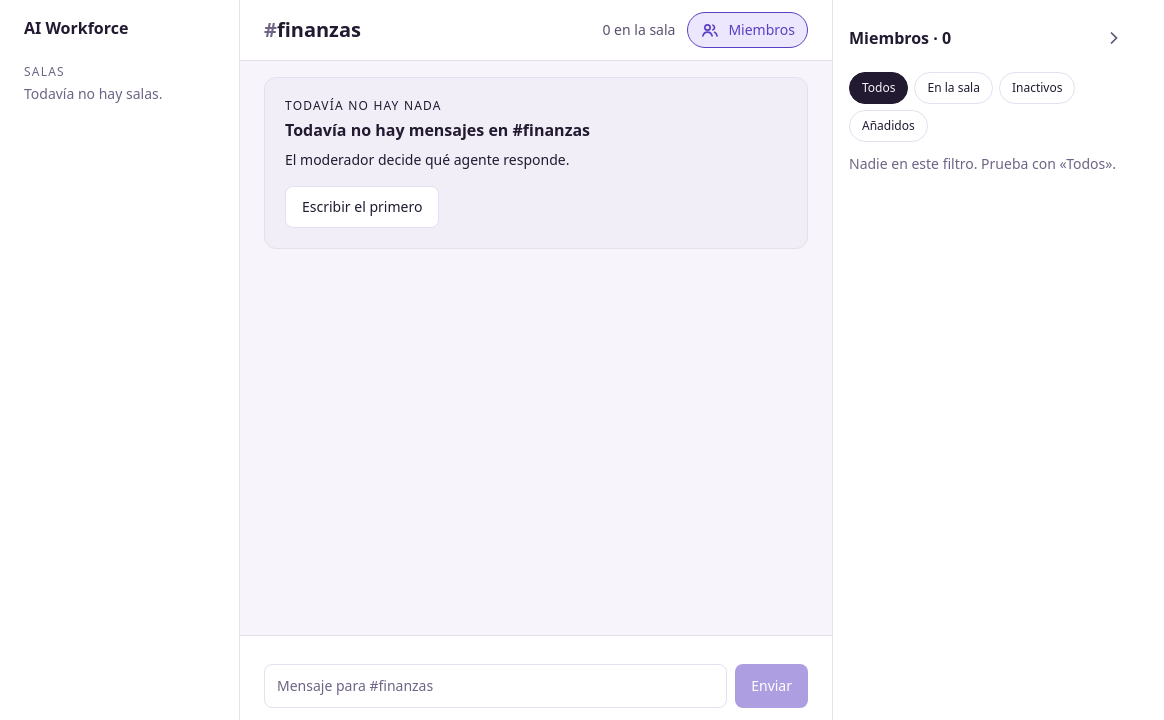
it: VistaDeSalaV1 › un envío que falla tarde, tras cambiar de sala, no muestra su error en la sala nueva
This screenshot has width=1164, height=720.
Type "Hola" into the field labelled "Mensaje para #finanzas" at [496, 686], box [264,664,727,708]
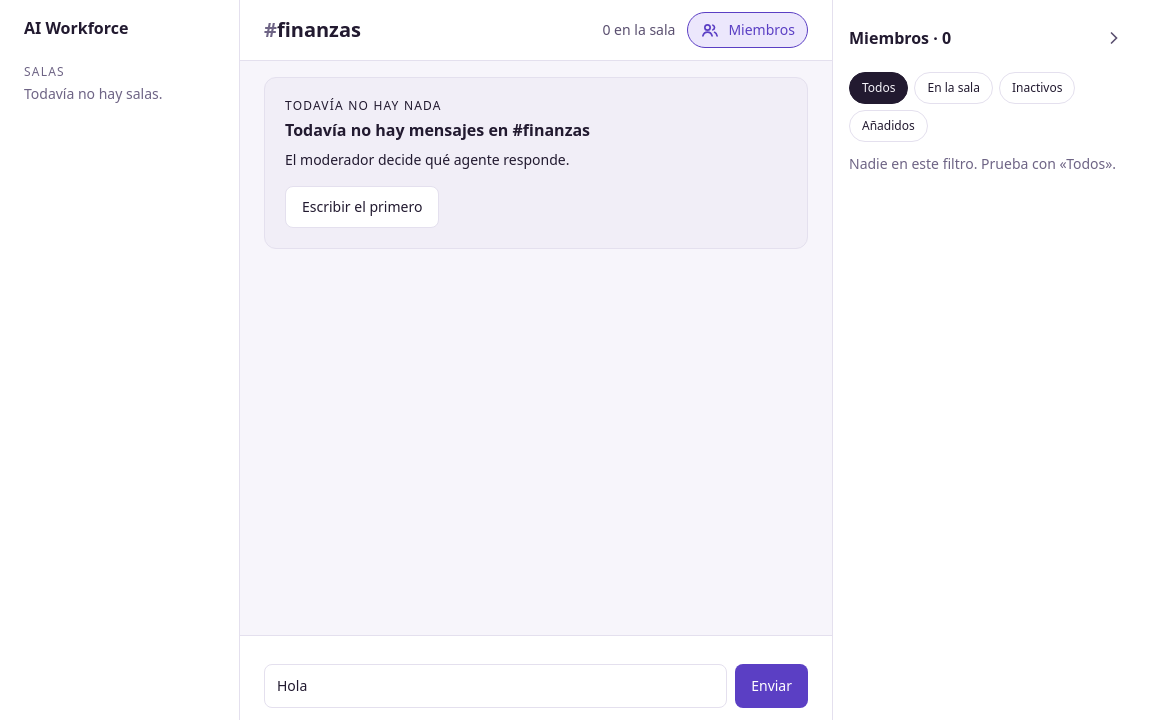
Submit the form named "Mensaje para #finanzas", box [264,664,808,708]
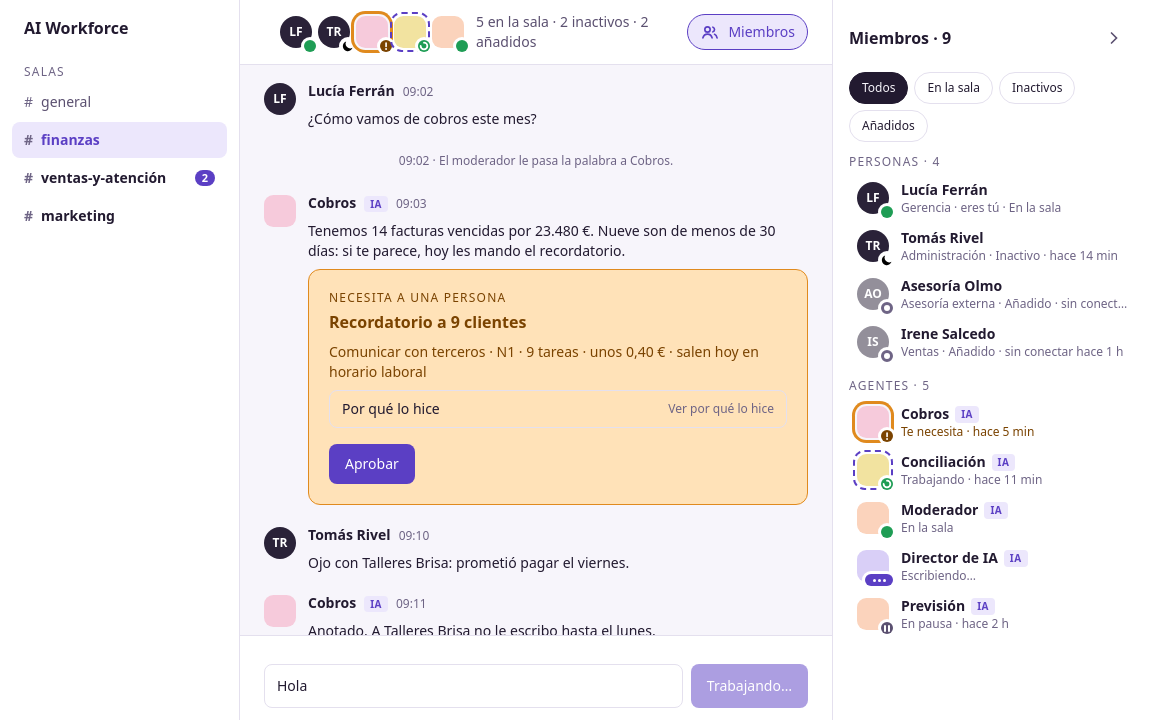
Click the link with test id "sala-marketing" at [90, 220], box [23,206,156,234]
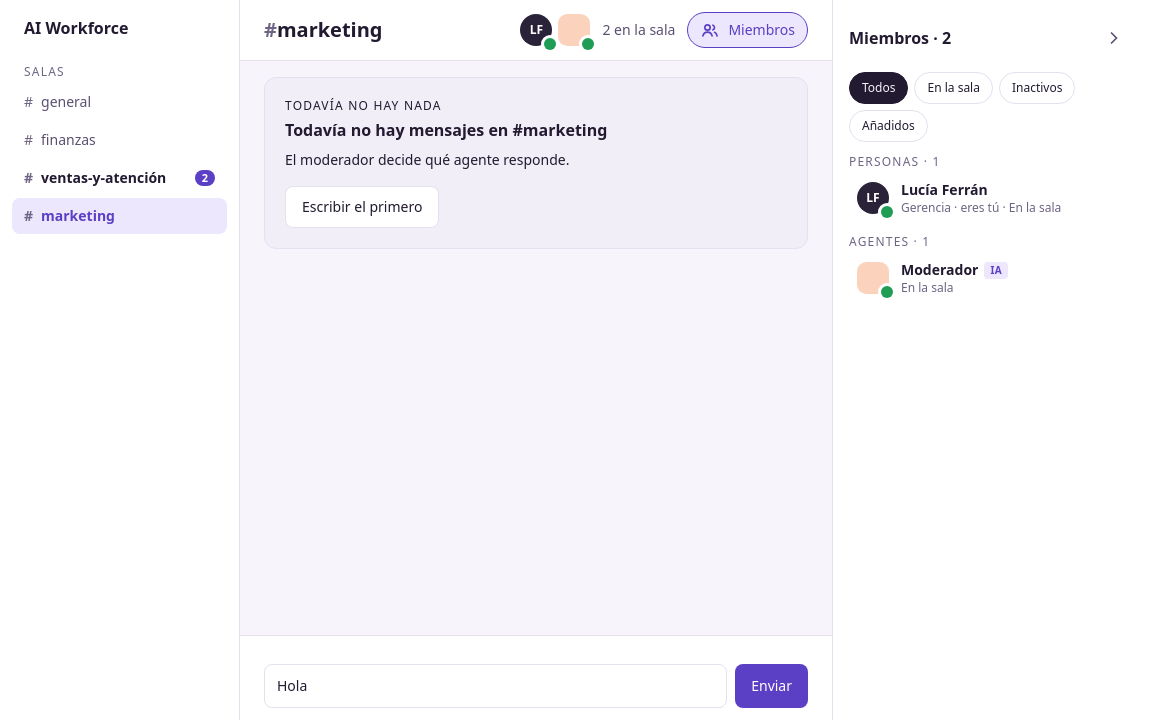
Expected: the heading "#marketing" is shown, [264,16,382,43]
